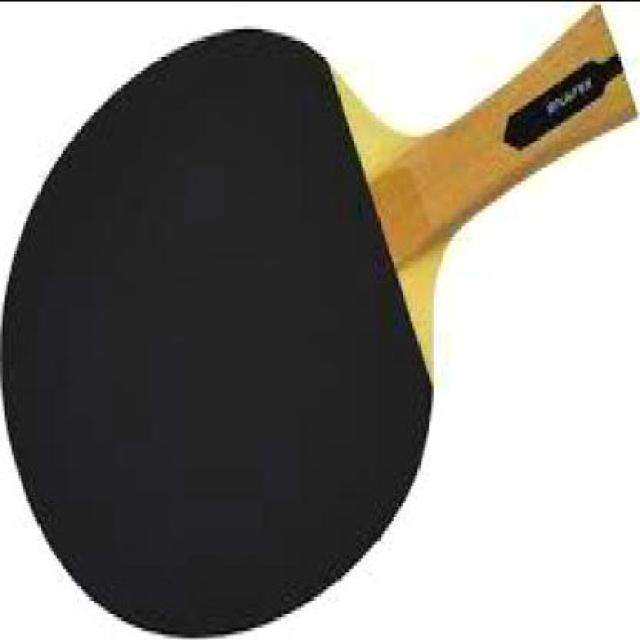table_tennis_racket: (0, 18, 452, 638)
